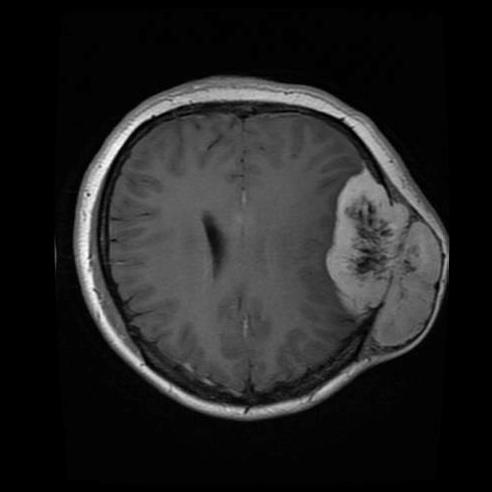Tumour-Meningioma: (312, 159, 464, 364)
